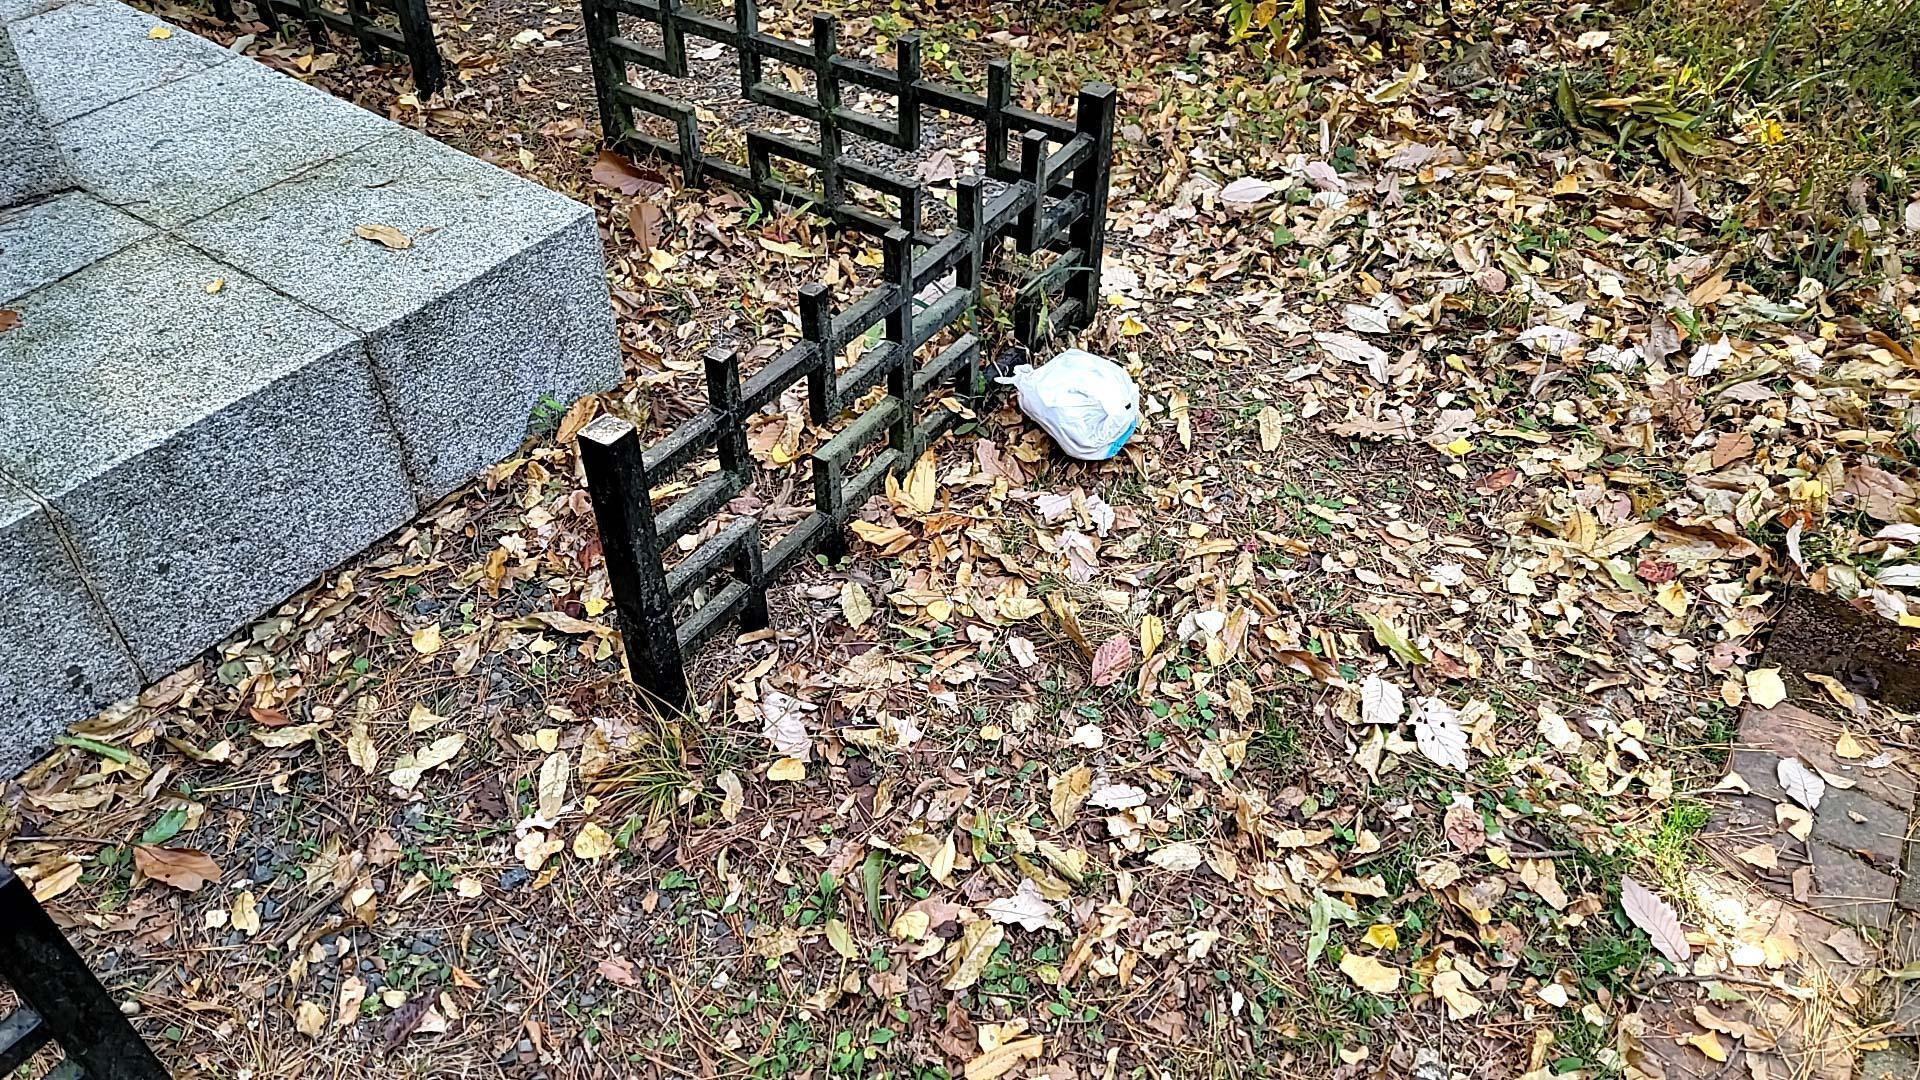white_bag: (989, 342, 1146, 473)
